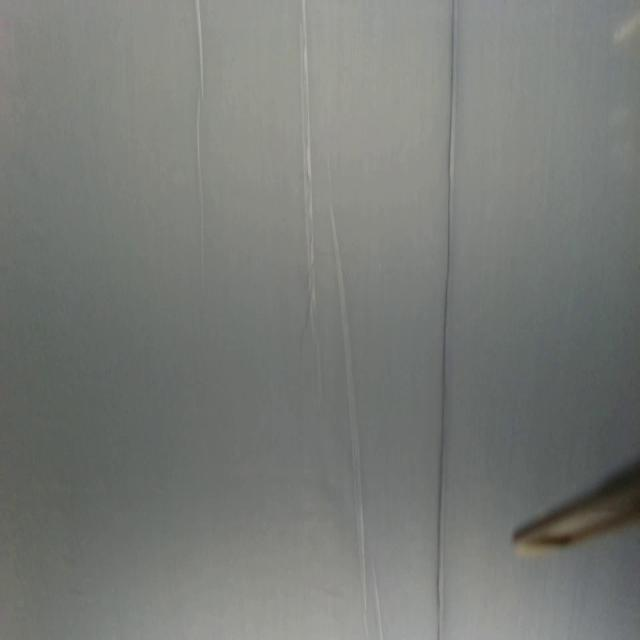crease: (329, 202, 368, 640), (434, 0, 458, 639), (296, 0, 324, 402), (190, 0, 209, 296), (370, 558, 384, 640)
